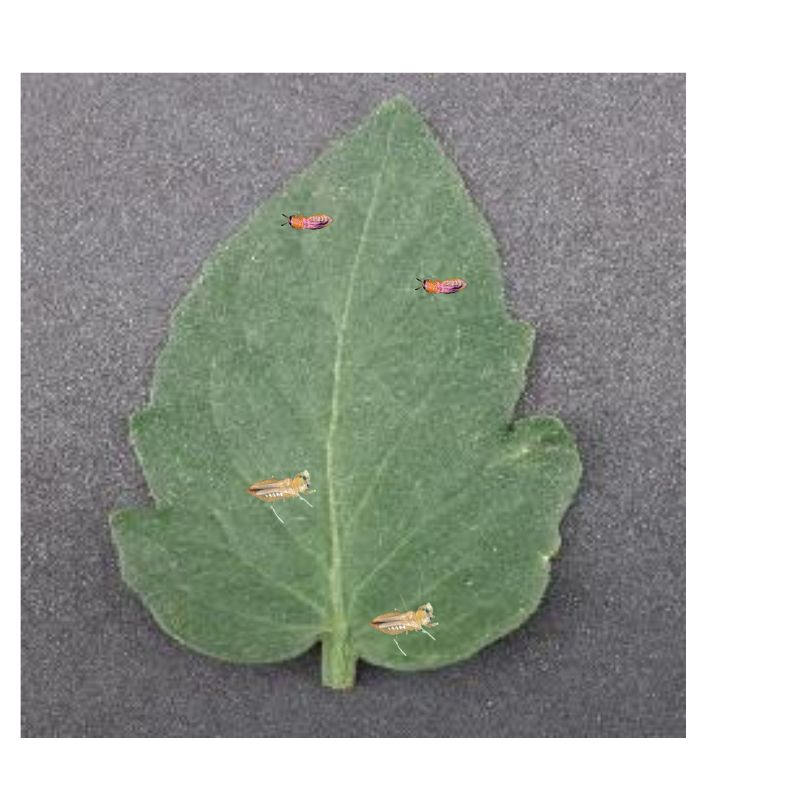thrips: (244, 468, 318, 507), (370, 601, 441, 640), (279, 211, 334, 232), (414, 274, 466, 296)
